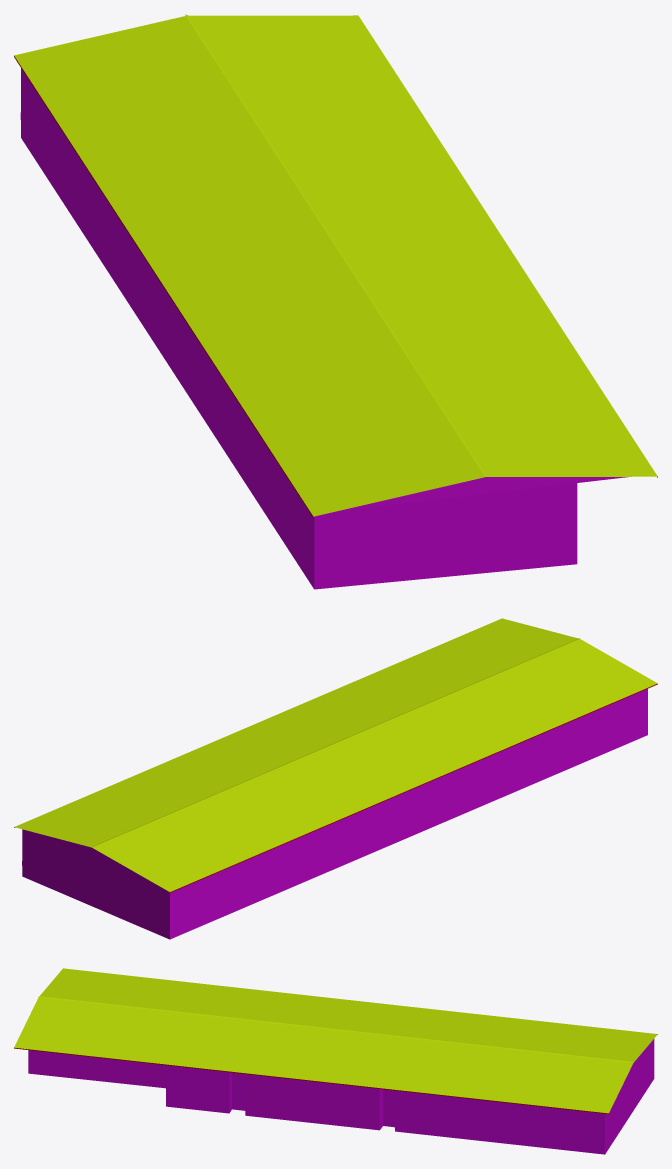
The model's file is sag_8.glb.
The picture shows the model from 3 angles, top to bottom: view 1: azimuth 30°, elevation 25°; view 2: azimuth 150°, elevation 25°; view 3: azimuth 270°, elevation 25°; orthographic projection. The views are drawn at different scales.
Visible parts, largest first — view 1: sag_8; view 2: sag_8; view 3: sag_8.
Part boxes in pixels (x1=…): sag_8: x1=14, y1=14, x2=657, y2=589; sag_8: x1=14, y1=618, x2=657, y2=939; sag_8: x1=14, y1=968, x2=657, y2=1154.
Size of the model in its own units: 45.1 by 8.01 by 84.6.
